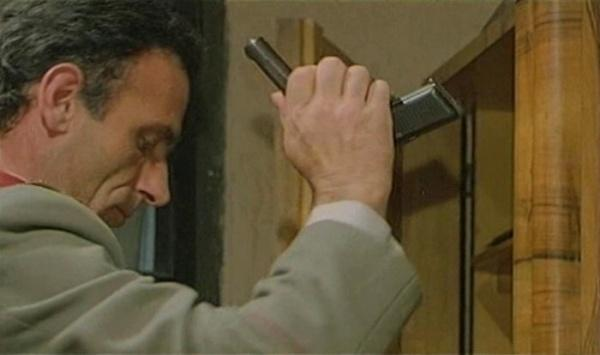Gun: (243, 32, 463, 148)
